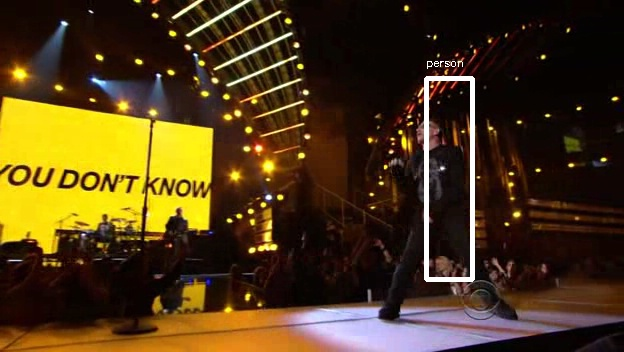person: (400, 119, 465, 226), (397, 119, 462, 226), (403, 119, 468, 226), (400, 116, 465, 223), (400, 122, 465, 229)
target_negative: (195, 175, 538, 283), (188, 236, 619, 277), (575, 13, 597, 234), (3, 95, 274, 101), (80, 224, 553, 227)
